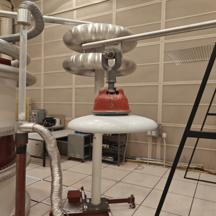insulator: (64, 85, 165, 138)
